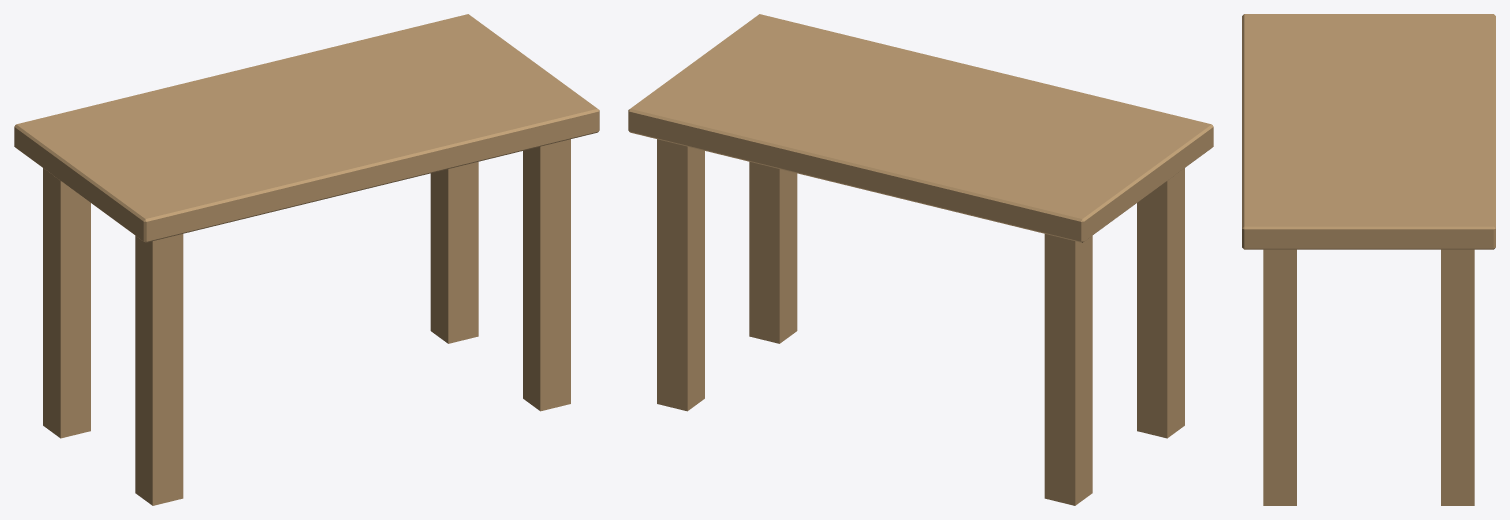
Rendered from table.v1.glb.
The picture shows the model from 3 angles, left to right: view 1: azimuth 30°, elevation 25°; view 2: azimuth 150°, elevation 25°; view 3: azimuth 270°, elevation 25°; orthographic projection. The views are drawn at different scales.
Parts seen in each view (by area): view 1: mesh_top, mesh_leg_-0.51_0.21, mesh_leg_0.51_0.21, mesh_leg_-0.51_-0.21, mesh_leg_0.51_-0.21; view 2: mesh_top, mesh_leg_-0.51_-0.21, mesh_leg_0.51_-0.21, mesh_leg_-0.51_0.21, mesh_leg_0.51_0.21; view 3: mesh_top, mesh_leg_0.51_-0.21, mesh_leg_0.51_0.21.
Part boxes in pixels (x1=…): mesh_top: x1=14, y1=14, x2=599, y2=242; mesh_leg_-0.51_0.21: x1=135, y1=234, x2=183, y2=505; mesh_leg_0.51_0.21: x1=523, y1=139, x2=570, y2=411; mesh_leg_-0.51_-0.21: x1=43, y1=168, x2=90, y2=438; mesh_leg_0.51_-0.21: x1=430, y1=161, x2=478, y2=343; mesh_top: x1=628, y1=14, x2=1213, y2=242; mesh_leg_-0.51_-0.21: x1=1044, y1=234, x2=1092, y2=505; mesh_leg_0.51_-0.21: x1=657, y1=139, x2=704, y2=411; mesh_leg_-0.51_0.21: x1=1137, y1=168, x2=1184, y2=438; mesh_leg_0.51_0.21: x1=749, y1=161, x2=797, y2=343; mesh_top: x1=1242, y1=14, x2=1495, y2=249; mesh_leg_0.51_-0.21: x1=1441, y1=249, x2=1474, y2=505; mesh_leg_0.51_0.21: x1=1263, y1=249, x2=1296, y2=505.
Size of the model in its own units: 1.2 by 0.75 by 0.6.
